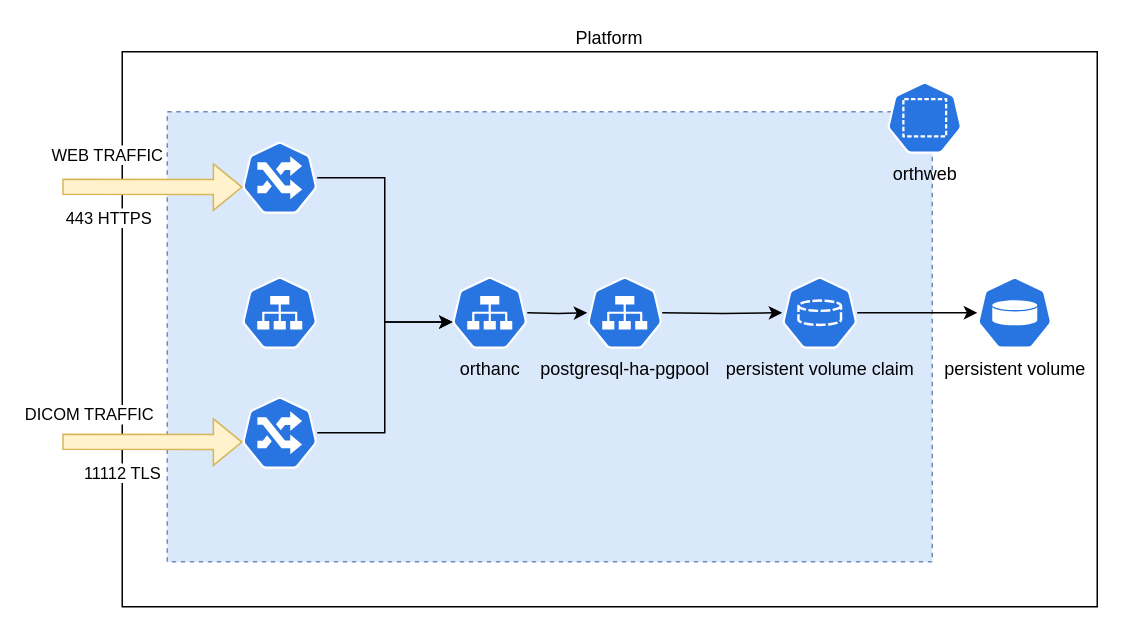
The diagram is 1125 pixels wide and 633 high, and some of its shapes have lost their labels. The centre of each missing label's shape, as x and y in pixels:
"traefik" goes at [279,312].
"Traefik CRD dicom-ingressroute" goes at [279,432].
"Traefik CRD web-ingressroute" goes at [279,177].
